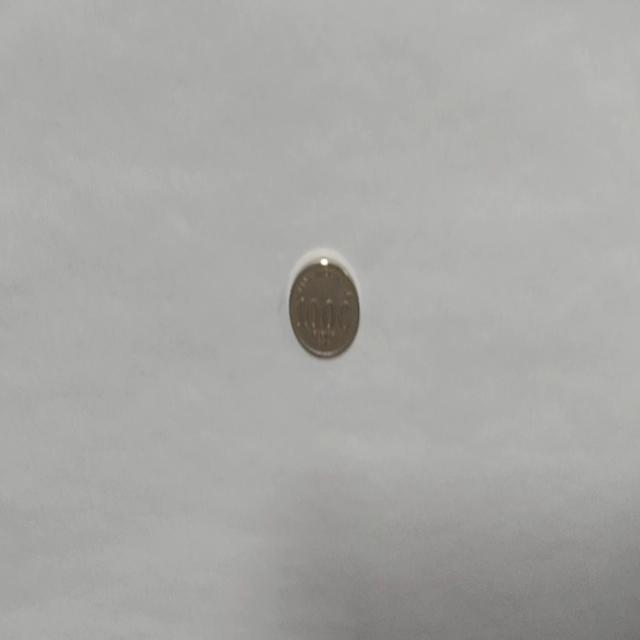seribu rupiah koin: (286, 249, 361, 360)
